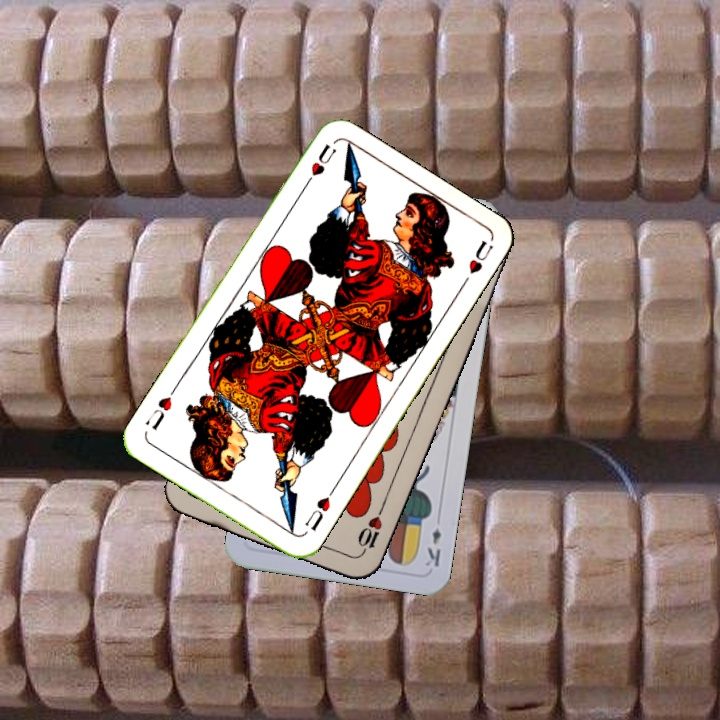EK: (421, 524, 444, 569)
H10: (353, 504, 386, 560)
HU: (299, 139, 339, 192), (300, 483, 338, 534)
